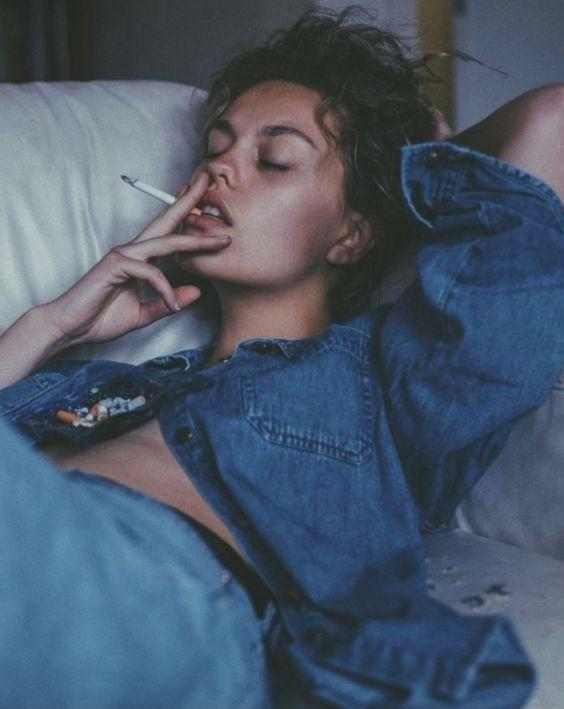cigarette: (121, 175, 202, 216)
